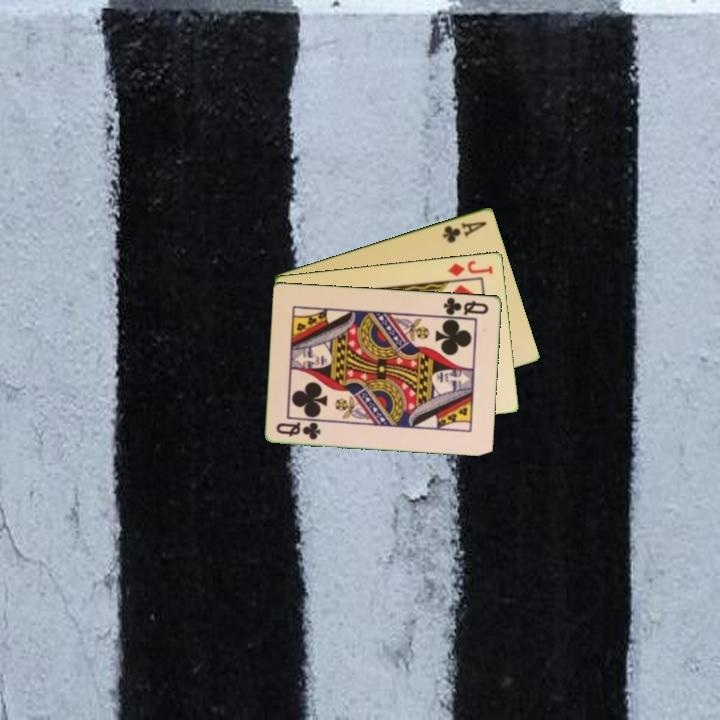Ac: (439, 217, 490, 245)
Jd: (444, 257, 496, 279)
Qc: (440, 293, 492, 318), (273, 418, 323, 442)
